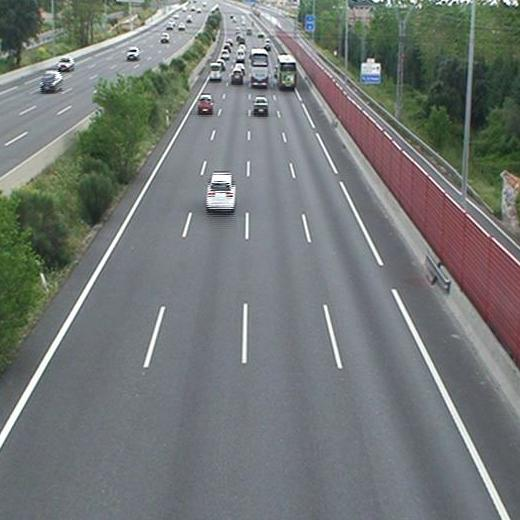bus: (250, 48, 269, 87), (276, 55, 296, 89)
car: (206, 174, 235, 208), (198, 95, 213, 113), (254, 96, 268, 113), (230, 70, 243, 82), (221, 50, 229, 59)
van: (210, 62, 221, 79), (235, 50, 245, 62)
